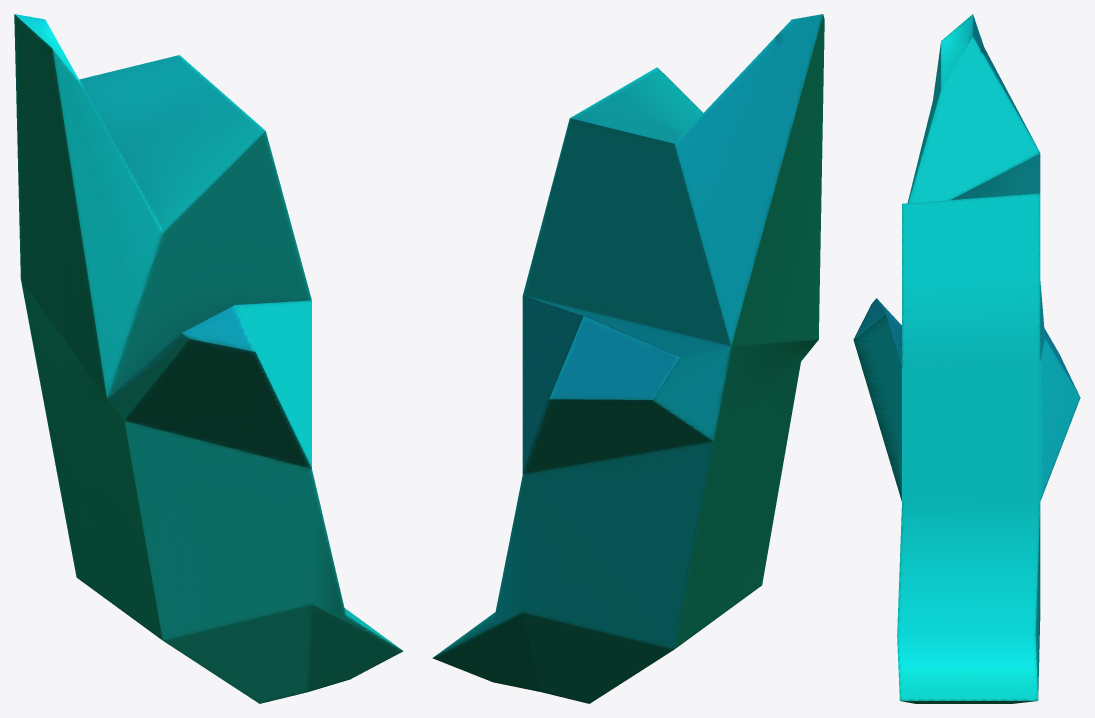
File: GemaAquamarinaTexReady.fbx
3 renders of one model, left to right at view 1: azimuth 30°, elevation 25°; view 2: azimuth 150°, elevation 25°; view 3: azimuth 270°, elevation 25°, orthographic. The views are drawn at different scales.
Parts seen in each view (by area): view 1: AquamarinaCristal1; view 2: AquamarinaCristal1; view 3: AquamarinaCristal1.
Part boxes in pixels (x1=…): AquamarinaCristal1: x1=14, y1=14, x2=403, y2=703; AquamarinaCristal1: x1=432, y1=14, x2=824, y2=703; AquamarinaCristal1: x1=853, y1=14, x2=1080, y2=703.
Bounding box in the file's own units: 0.908 × 1.8 × 0.6467.
